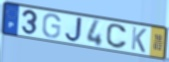3: (20, 9, 40, 36)
4: (86, 18, 104, 48)
C: (106, 23, 129, 50)
G: (41, 13, 62, 39)
J: (64, 16, 84, 43)
K: (130, 25, 148, 54)
